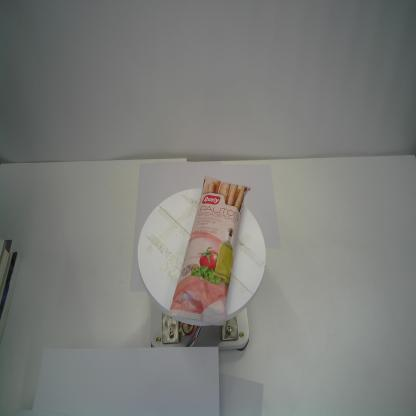Dessert: (166, 171, 254, 329)
